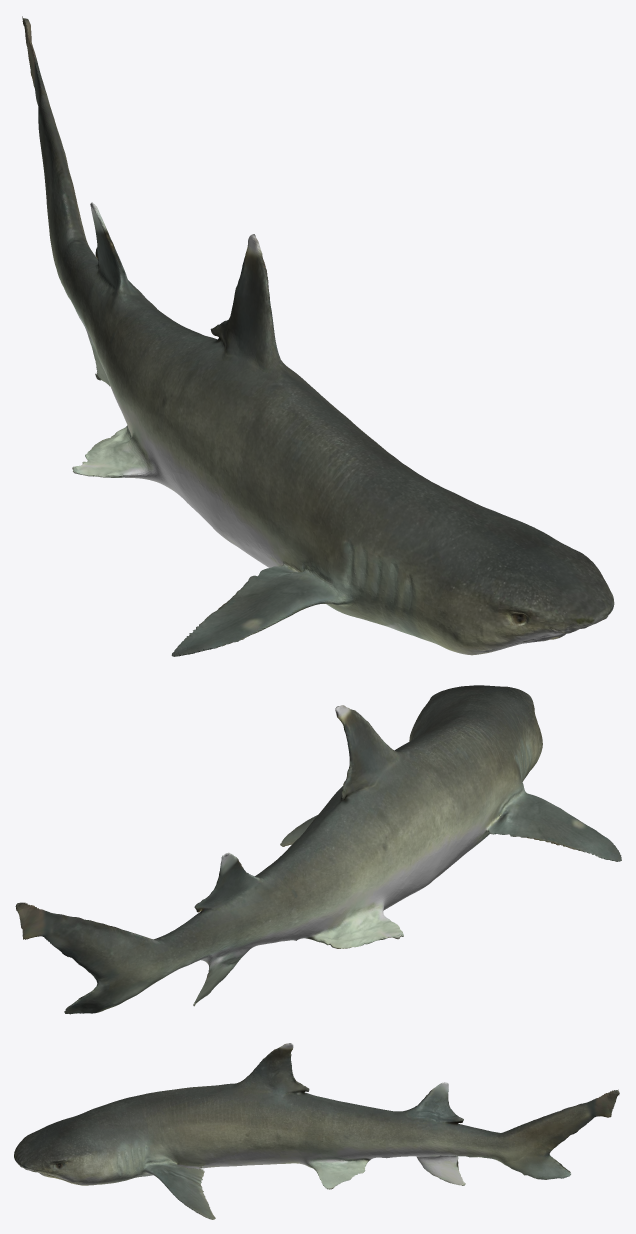
File: Silvertip shark - a ferocious apex predator.glb
3 views of the same model, one above another, from view 1: azimuth 30°, elevation 25°; view 2: azimuth 150°, elevation 25°; view 3: azimuth 270°, elevation 25° (orthographic). The views are drawn at different scales.
Visible parts, largest first — view 1: ?????????_0; view 2: ?????????_0; view 3: ?????????_0.
Part boxes in pixels (x1,y1,x2,y2): ?????????_0: (22,16,614,656); ?????????_0: (15,685,621,1014); ?????????_0: (14,1043,619,1219).
Bounding box in the file's own units: 0.454 × 0.3142 × 1.24.
1 material, 1 textured.
